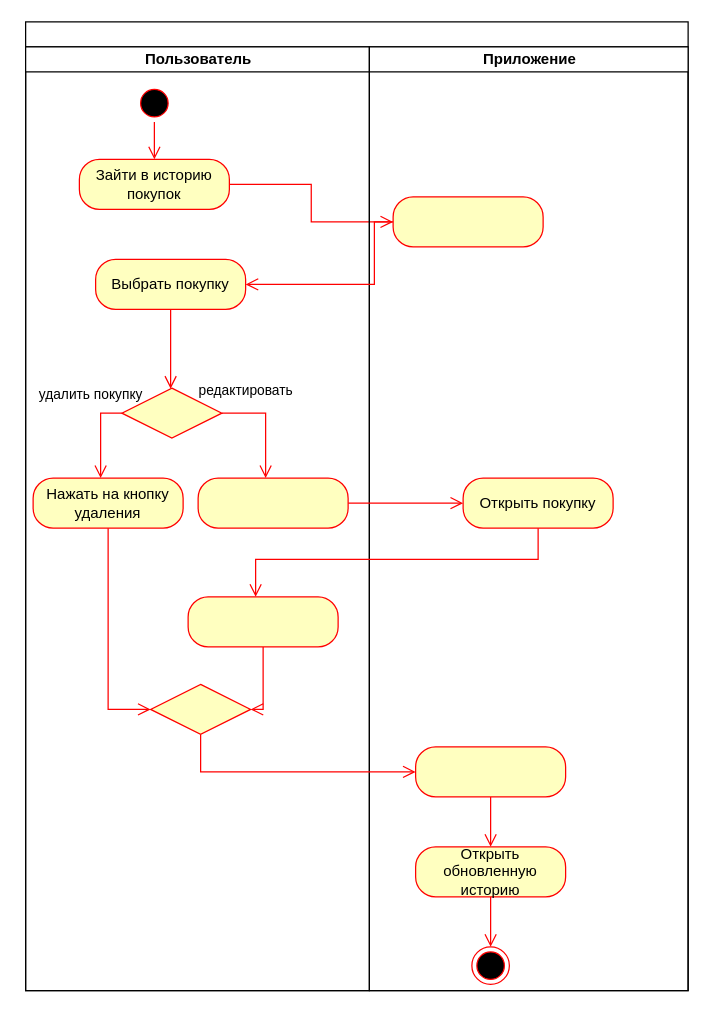
This 710x1013 diagram has some shape labels left out. The centre of each missing label's shape, as x and y in pixels:
Выбрать удаление: the point at 262,621
Нажать на редоктирование: the point at 272,502
Открыть историю: the point at 467,221
Удалить покупку из истории: the point at 490,771
